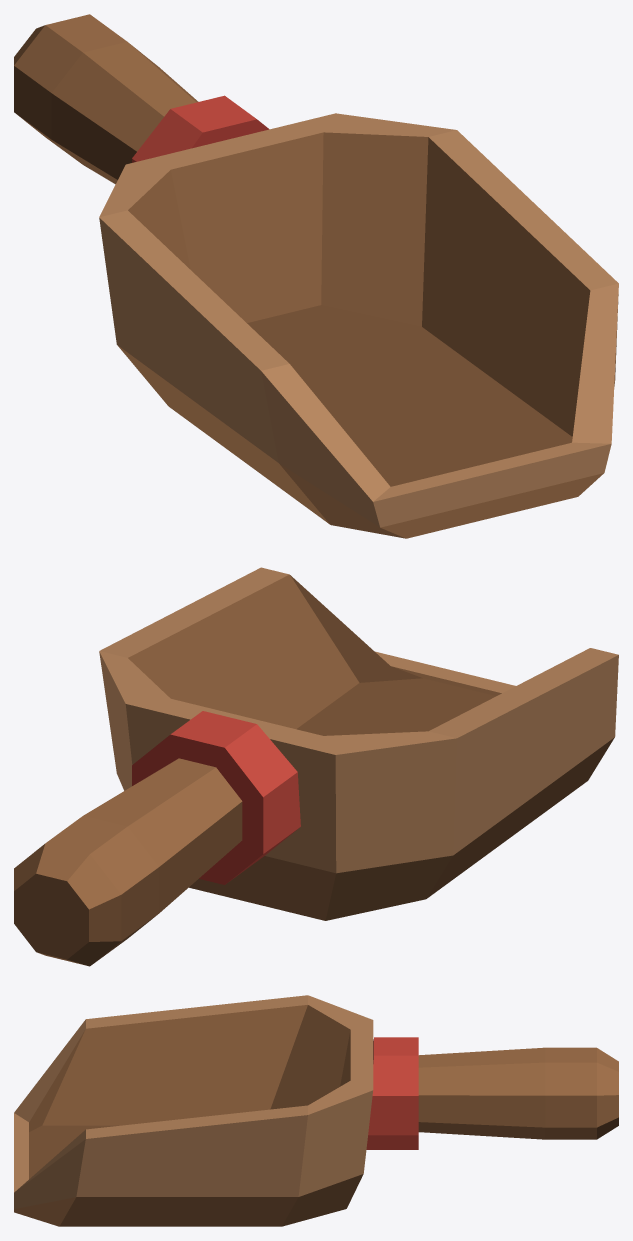
File: FMS_Workshop_TOL_09.fbx
The picture shows the model from 3 angles, top to bottom: view 1: azimuth 30°, elevation 25°; view 2: azimuth 150°, elevation 25°; view 3: azimuth 270°, elevation 25°; orthographic projection. The views are drawn at different scales.
Visible parts, largest first — view 1: FMS_Workshop_TOL_09_Body; view 2: FMS_Workshop_TOL_09_Body; view 3: FMS_Workshop_TOL_09_Body.
Part boxes in pixels (x1,y1,x2,y2): FMS_Workshop_TOL_09_Body: (14, 14, 618, 538); FMS_Workshop_TOL_09_Body: (14, 567, 618, 966); FMS_Workshop_TOL_09_Body: (14, 995, 618, 1226).
Bounding box in the file's own units: 0.15 × 0.08 × 0.32.
